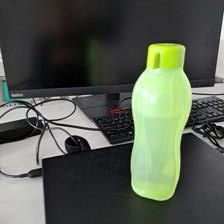bottle: (125, 40, 194, 202)
